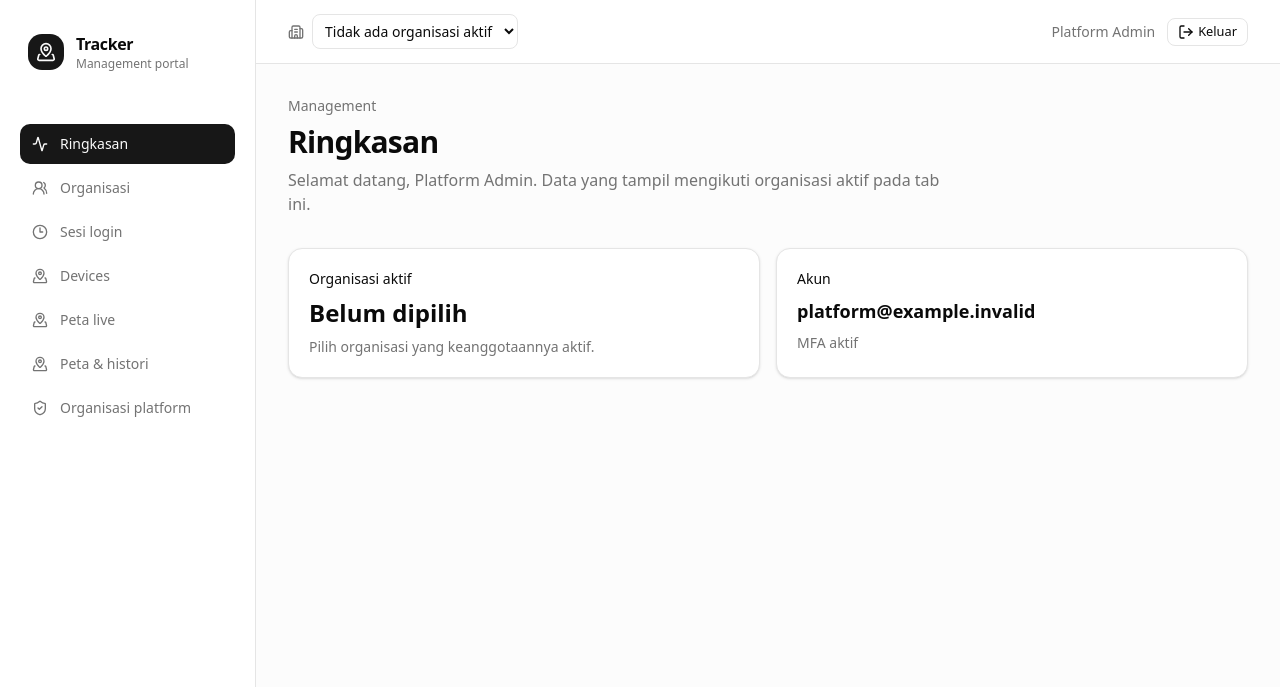
Test case: platform organization management › opens recent-auth confirmation when submitting the create-organization form
Click the link "Organisasi platform" at (112, 408), box x1=32 y1=398 x2=191 y2=417
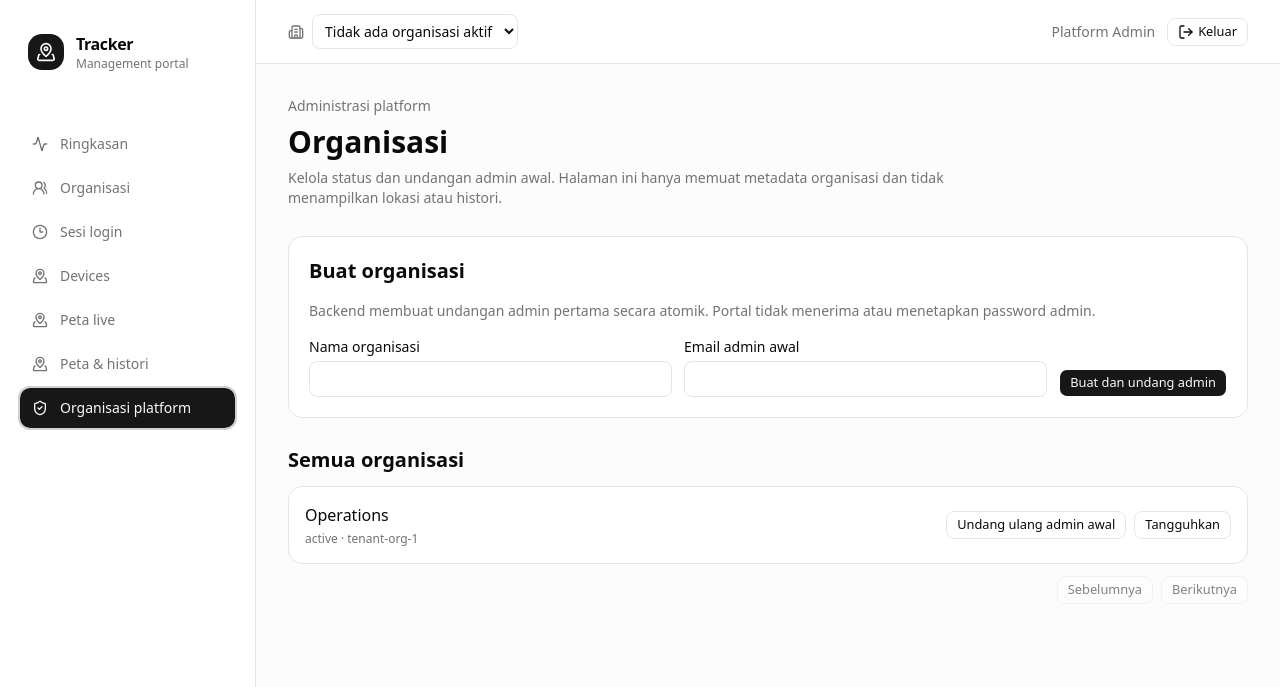
Type "Test organization" into the field labelled "Nama organisasi" at (491, 379), box x1=309 y1=361 x2=672 y2=397
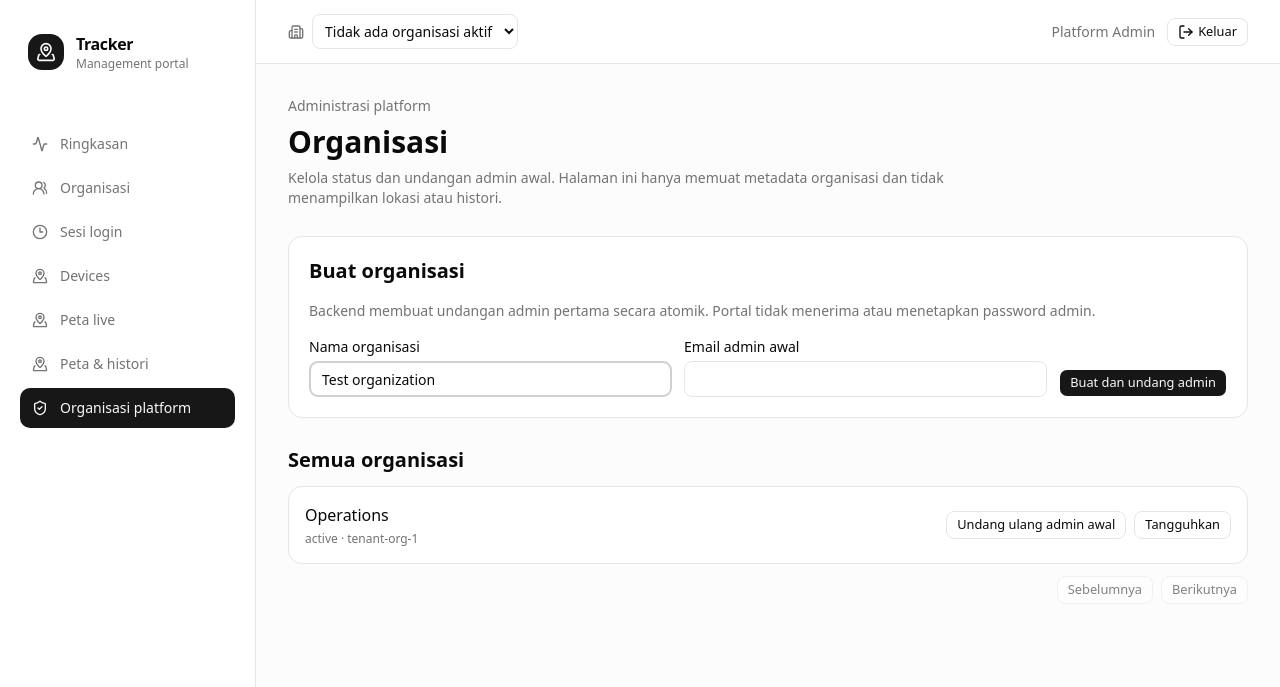
Type "admin@example.invalid" into the field labelled "Email admin awal" at (866, 379), box x1=684 y1=361 x2=1047 y2=397
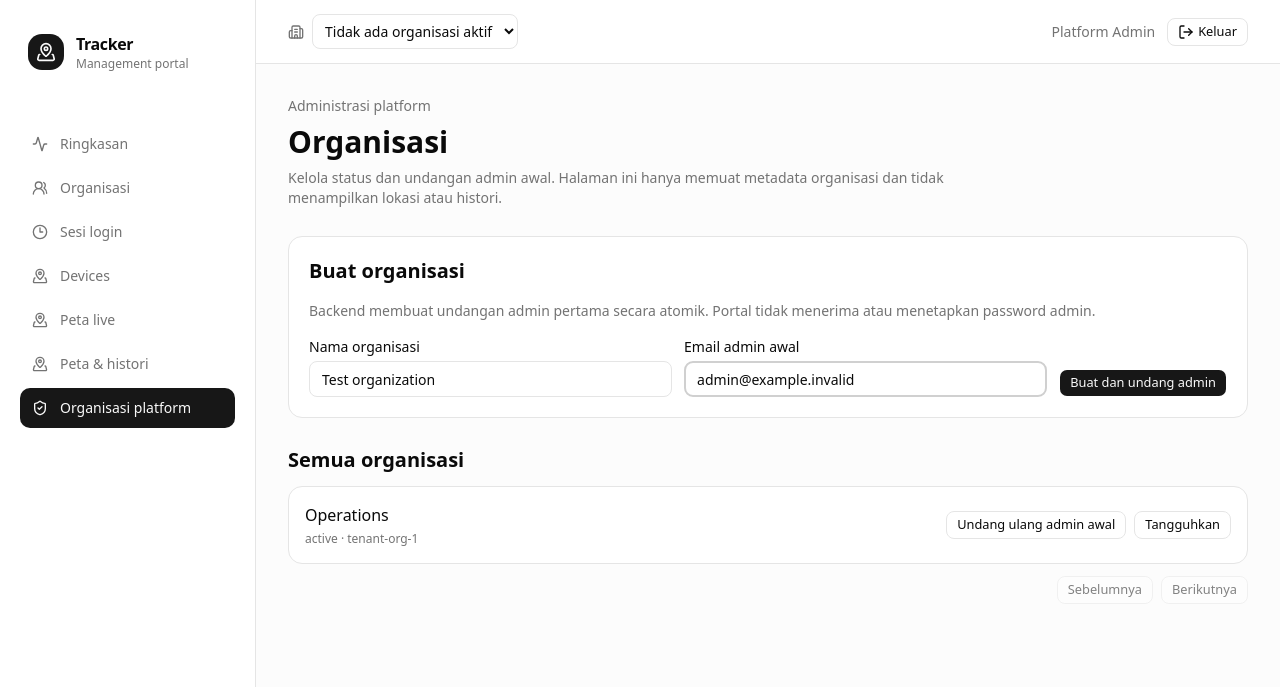
Click the button "Buat dan undang admin" at (1143, 383), box x1=1059 y1=369 x2=1227 y2=397
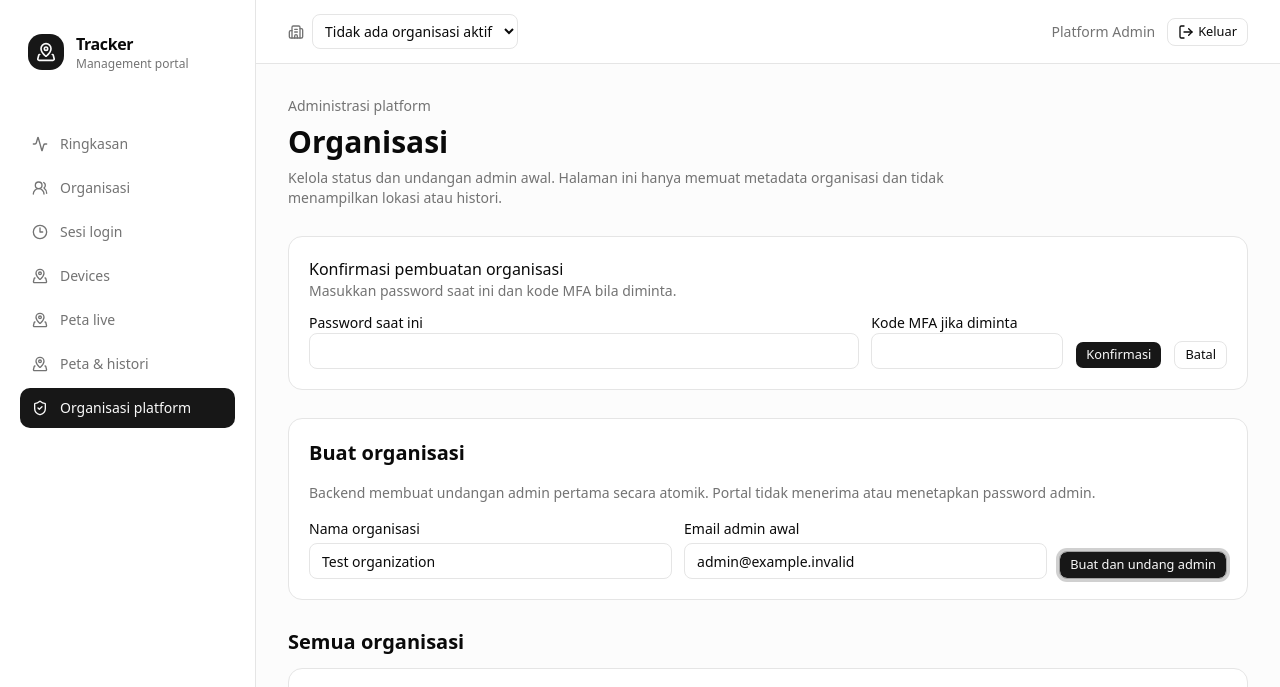
Expected: the form named "Konfirmasi autentikasi terbaru" is shown, x1=288 y1=236 x2=1248 y2=390
Expected: the heading "Konfirmasi pembuatan organisasi" is shown, x1=309 y1=258 x2=563 y2=280
